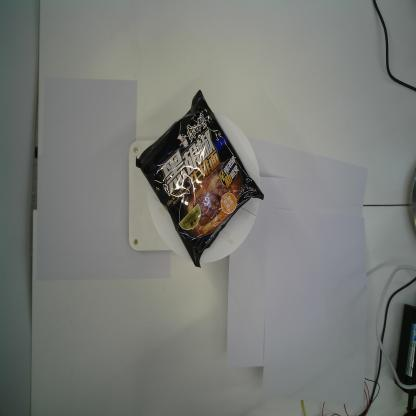Instant Noodles: (135, 89, 264, 270)
